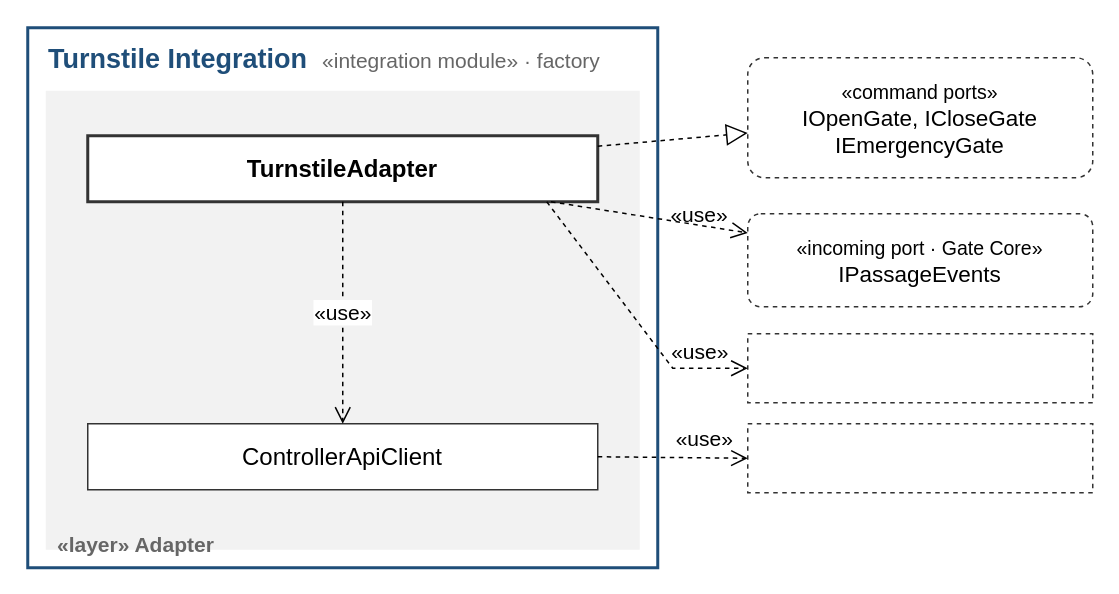
This 1119x594 diagram has some shape labels left out. Each missing label, with the centre of its shape:
"Controller API external" belongs at pixel 919 457.
"HealthApi" belongs at pixel 919 367.
